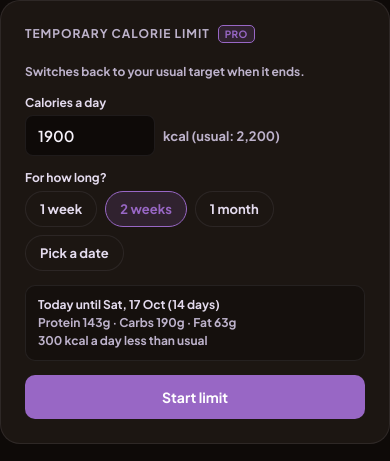
Scenario: CalorieLimitCard · starting a limit › a custom end date needs picking before it can start
Click the button "Pick a date" at (74, 253), box [25, 235, 124, 271]
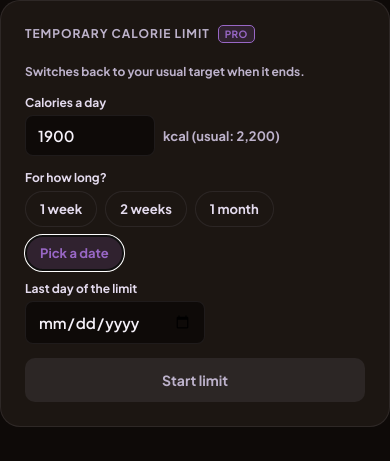
Expected: the button "Start limit" is disabled, [25, 358, 365, 402]
